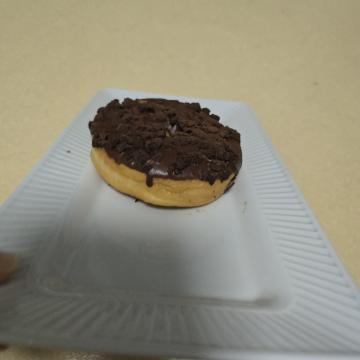doughnut: (86, 103, 230, 289)
